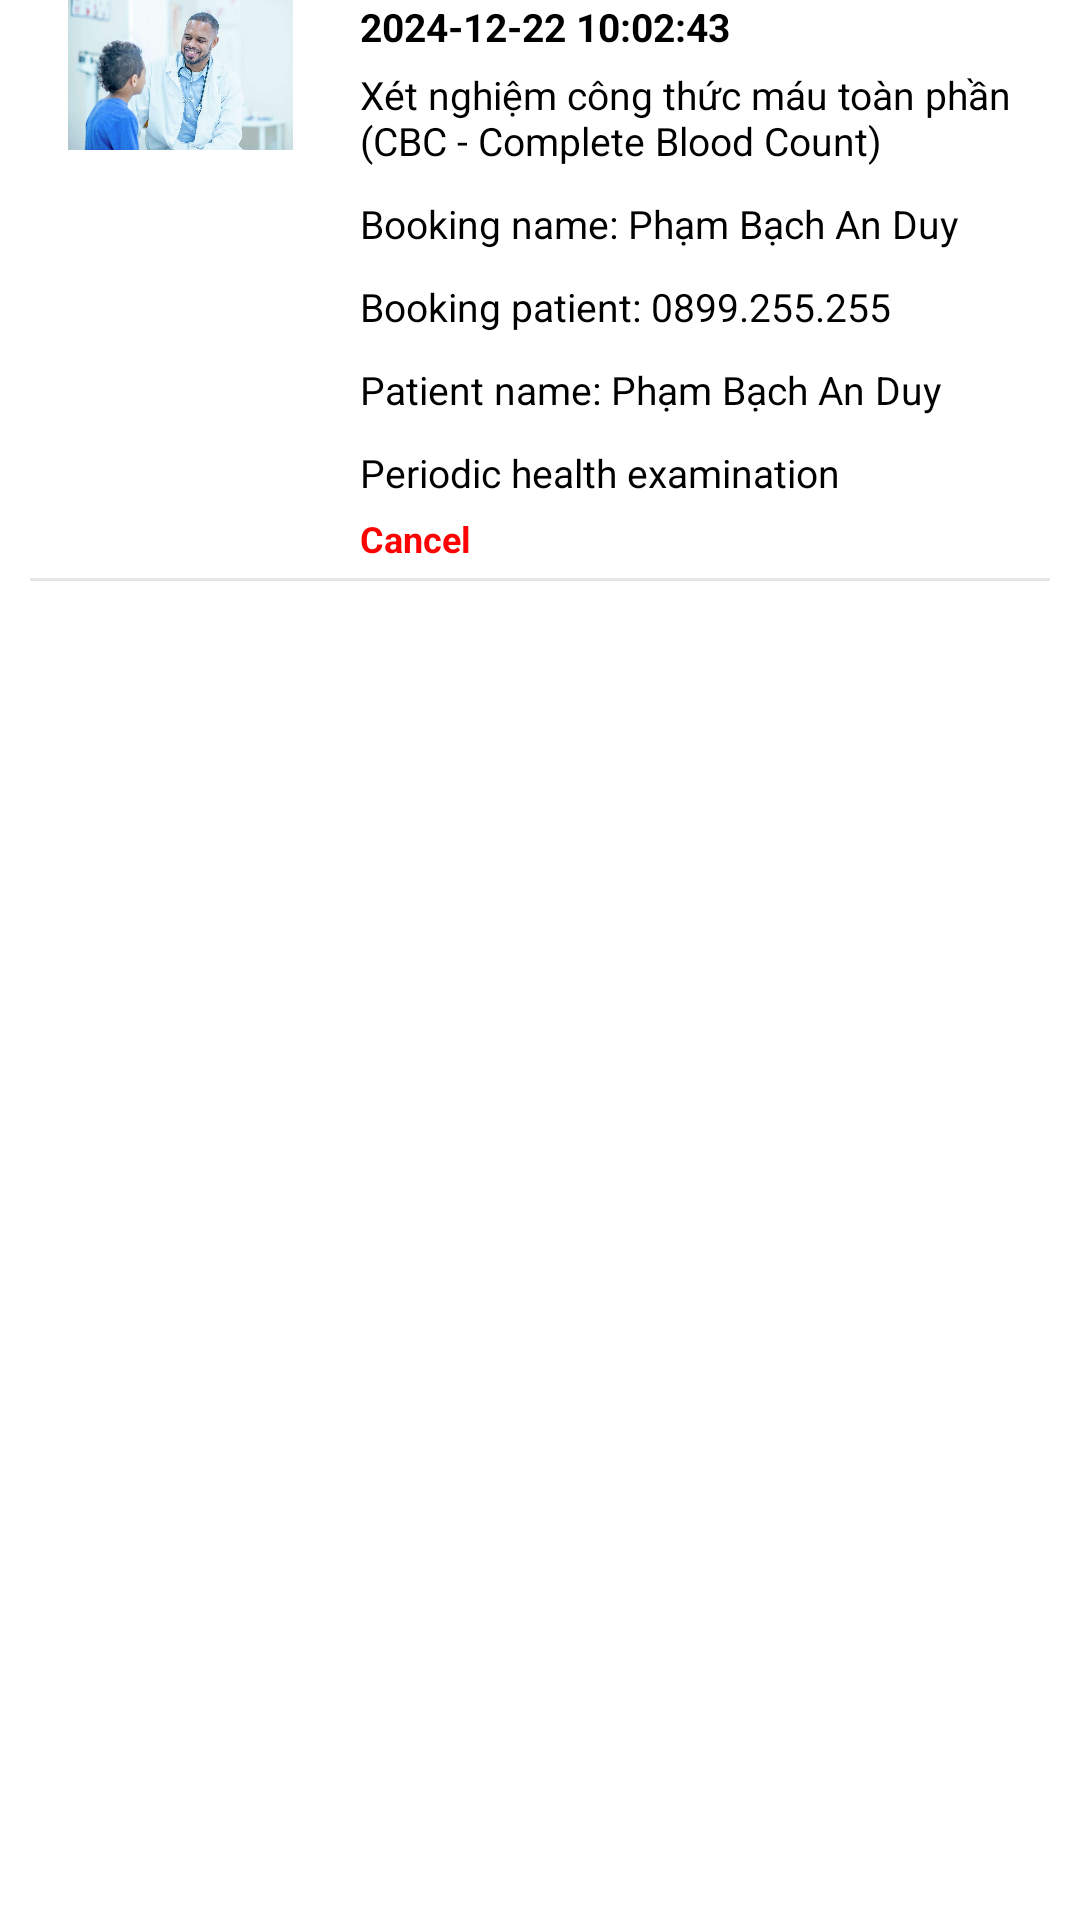

Where icons sit on this 1080px x 1920px app screen, as [x1, y1, x2, y2]:
speciality: [68, 0, 293, 150]
